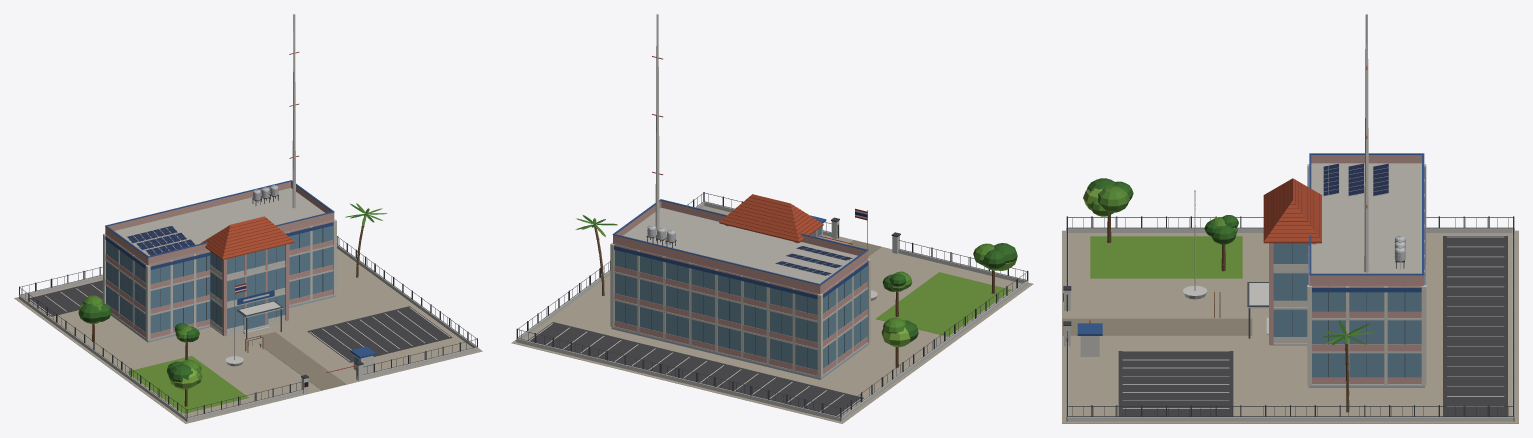
The model's file is police.glb.
3 renders of one model, left to right at view 1: azimuth 30°, elevation 25°; view 2: azimuth 150°, elevation 25°; view 3: azimuth 270°, elevation 25°, orthographic. The views are drawn at different scales.
Visible parts, largest first — view 1: body; view 2: body; view 3: body.
Part boxes in pixels (left/top/right/bottom): body: left=14, top=14, right=482, bottom=423; body: left=511, top=14, right=1033, bottom=423; body: left=1062, top=14, right=1518, bottom=423.
Size of the model in its own units: 49.02 by 41.84 by 47.9.
